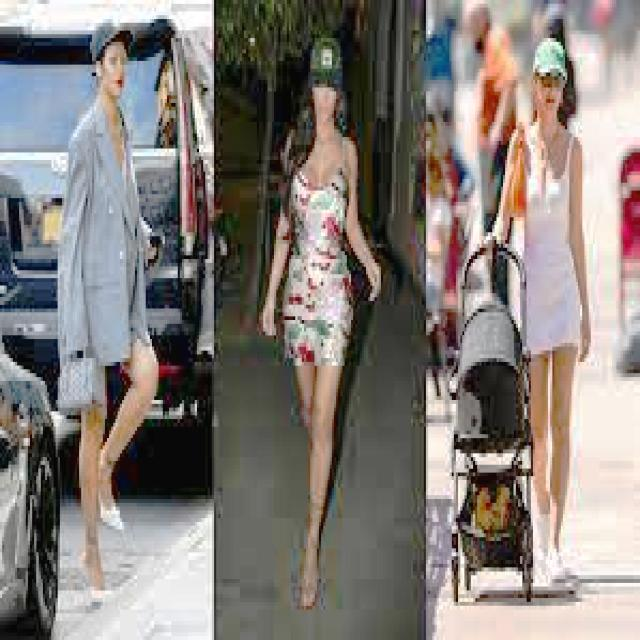TOPI: (528, 30, 574, 91), (302, 38, 347, 95), (86, 15, 130, 65)
